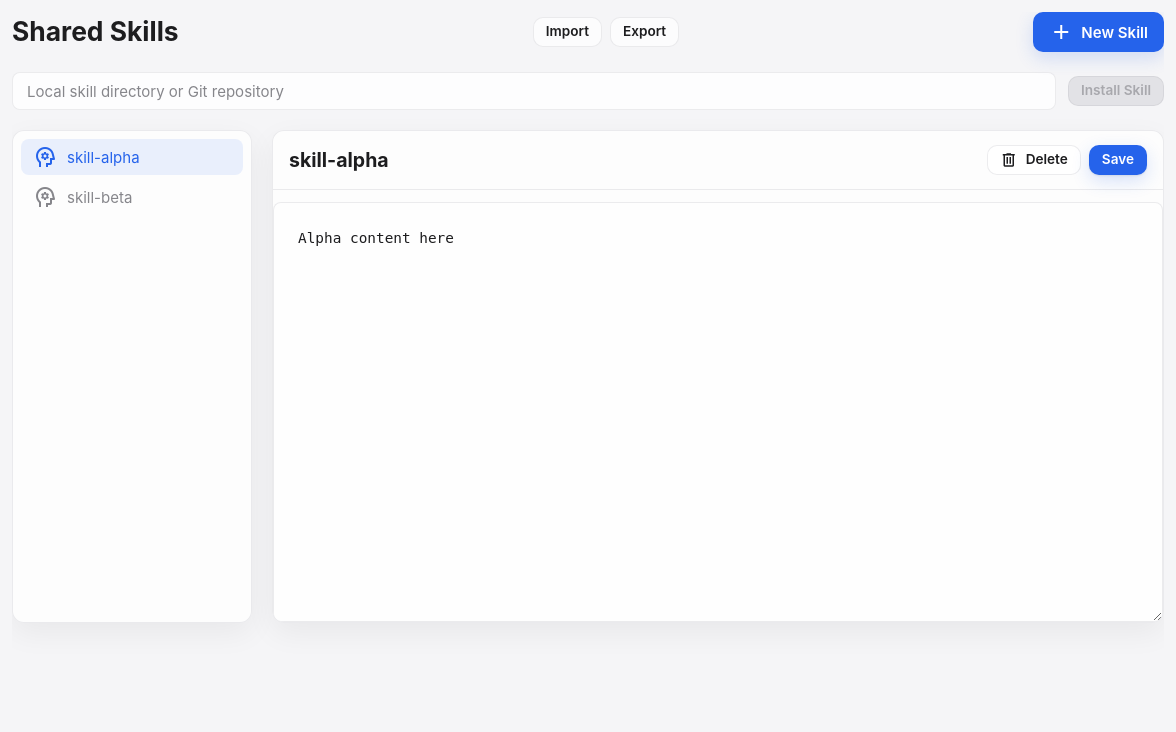
Test case: SkillsTab › selects a skill and shows its content in the editor
Step 1. Click the text "skill-beta" → (100, 197), box [67,188,132,206]
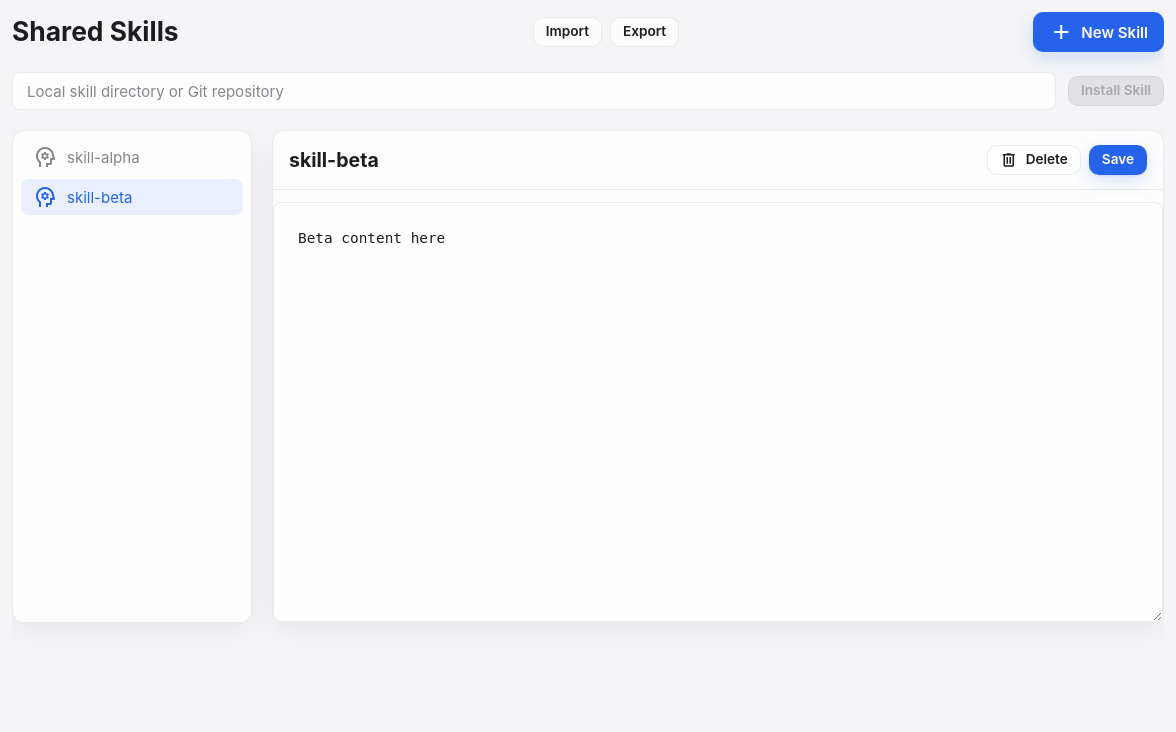
Result: the text box with placeholder "Enter skill instructions..." holds "Beta content here" at [273,202,1163,622]
